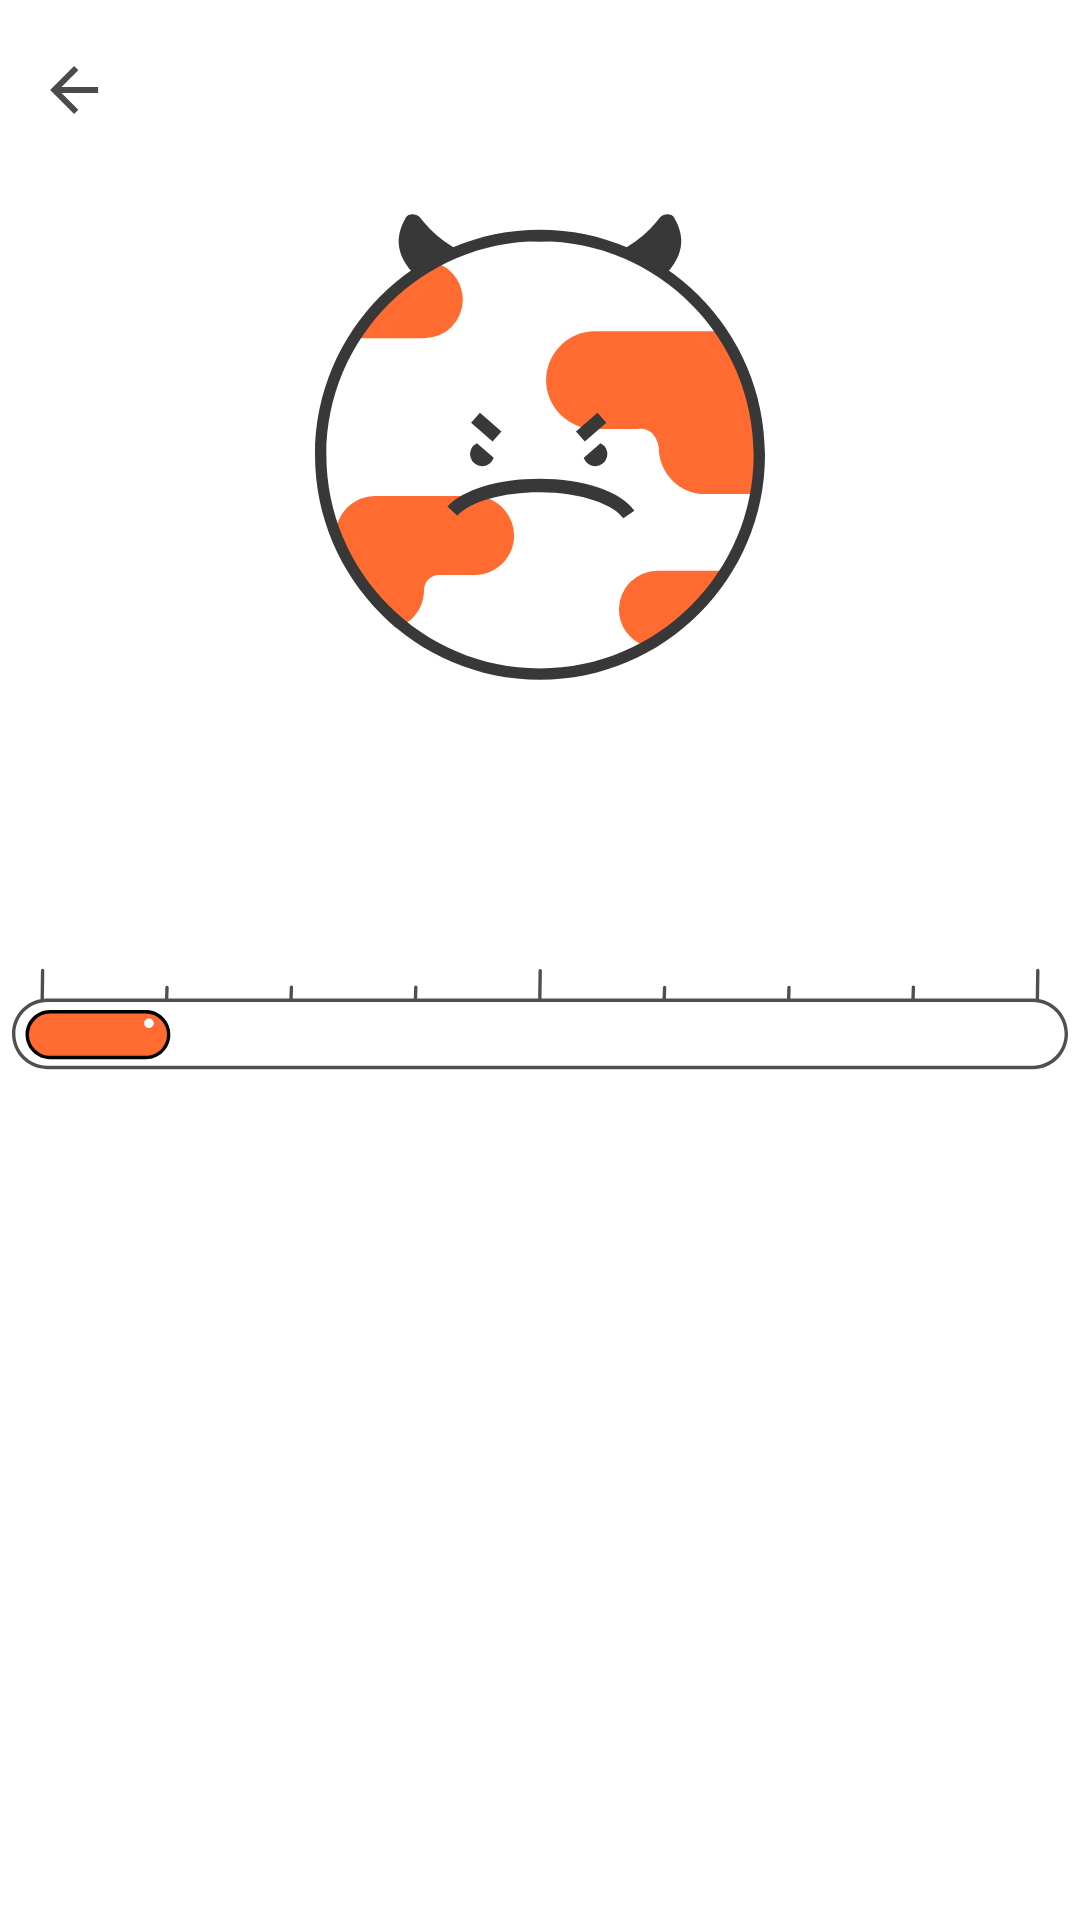

Named icons in this screenshot (1080w x 1920h) and their centers, point (x, y):
back: point (74, 90)
